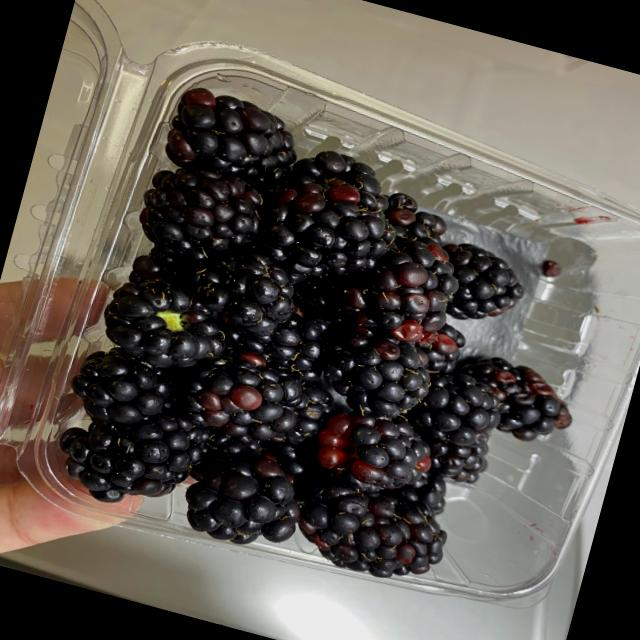blackberries: (55, 75, 618, 613)
